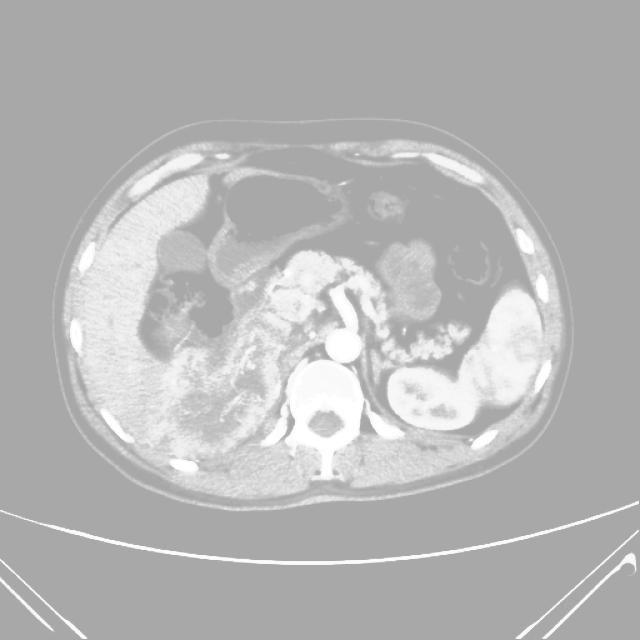TUMOR: (148, 209, 445, 396)
